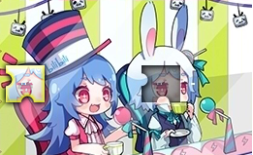gap: (141, 65, 180, 102)
